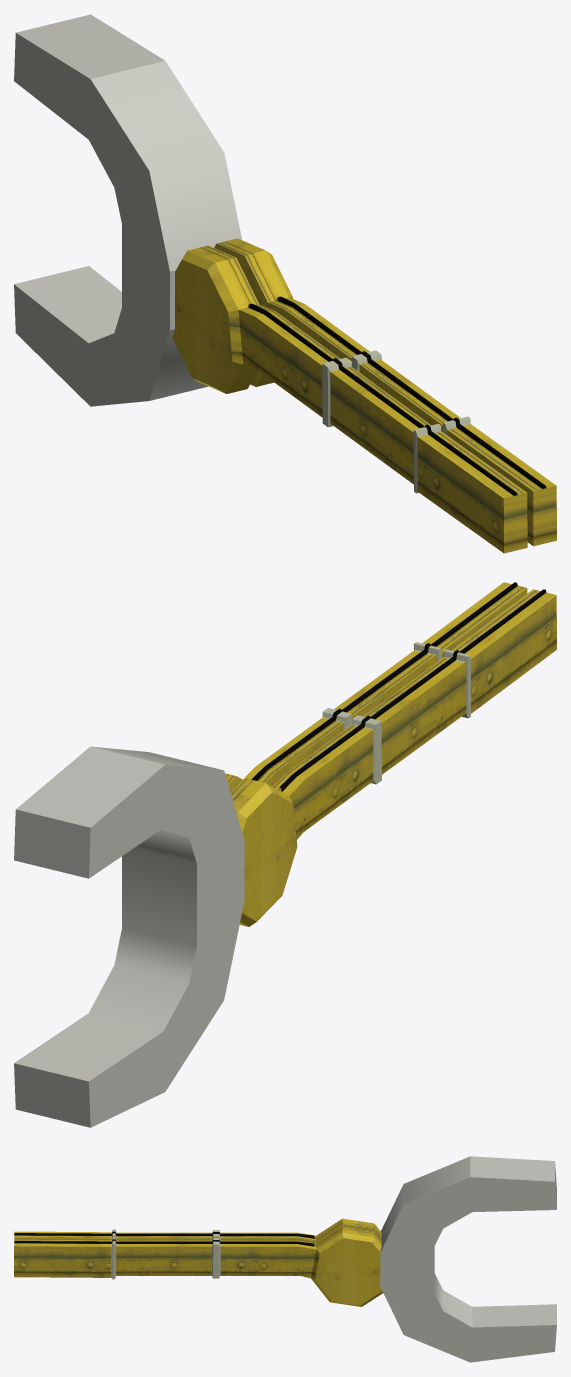
The model's file is braccio.fbx.
3 views of the same model, one above another, from view 1: azimuth 30°, elevation 25°; view 2: azimuth 150°, elevation 25°; view 3: azimuth 270°, elevation 25° (orthographic). The views are drawn at different scales.
Visible parts, largest first — view 1: polySurface4; view 2: polySurface4; view 3: polySurface4.
Part boxes in pixels (bbox=[...]): polySurface4: bbox=[14, 14, 556, 553]; polySurface4: bbox=[14, 582, 556, 1127]; polySurface4: bbox=[14, 1156, 556, 1362].
Bounding box in the file's own units: 0.3679 × 1.54 × 4.07.
